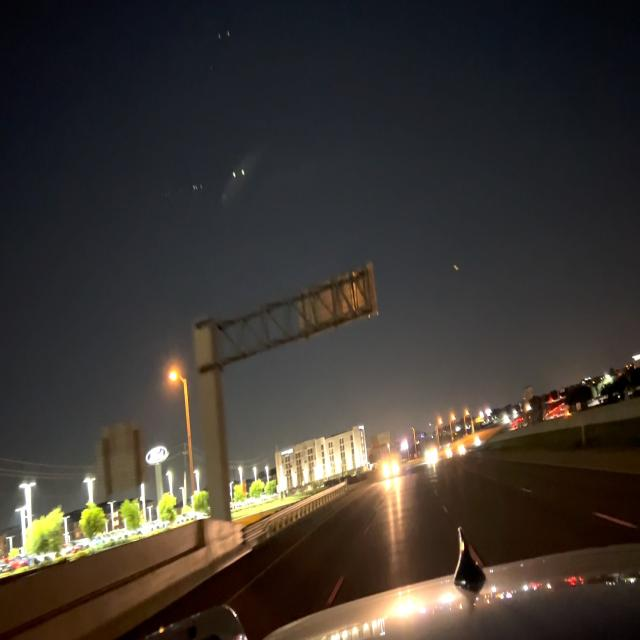back-of-sign: (295, 266, 379, 339), (96, 427, 150, 497)
